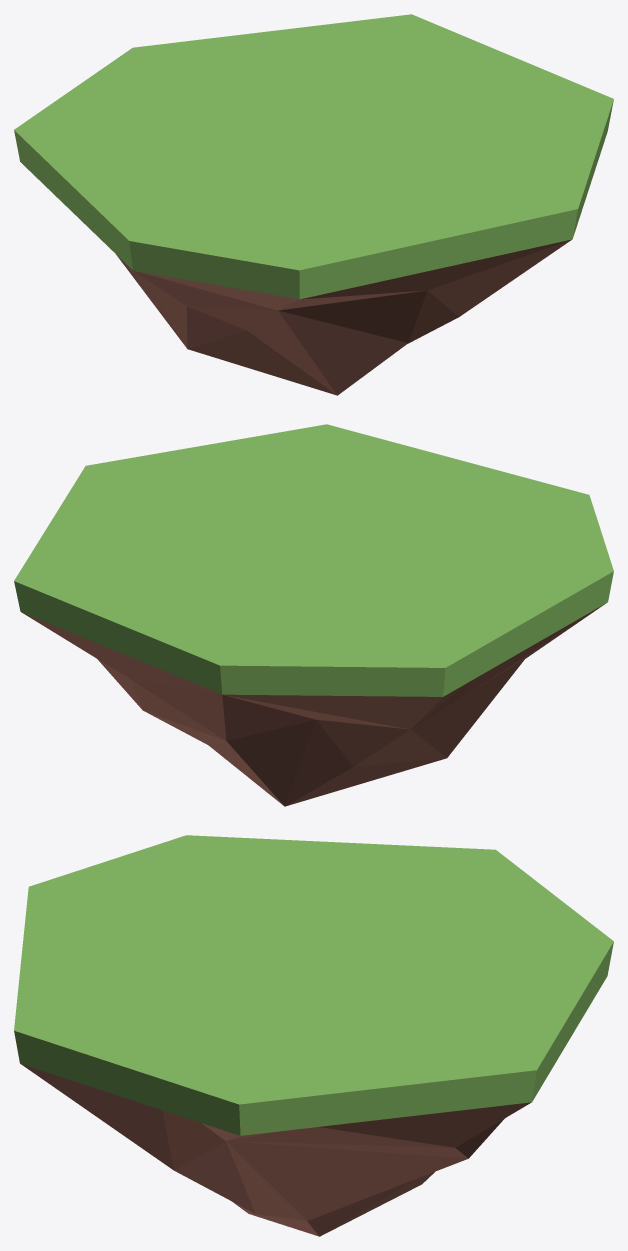
The model's file is Island9.fbx.
The picture shows the model from 3 angles, top to bottom: view 1: azimuth 30°, elevation 25°; view 2: azimuth 150°, elevation 25°; view 3: azimuth 270°, elevation 25°; orthographic projection. The views are drawn at different scales.
Visible parts, largest first — view 1: Island9; view 2: Island9; view 3: Island9.
Part boxes in pixels (<box>): Island9: <box>14,14,613,395</box>; Island9: <box>14,424,613,806</box>; Island9: <box>14,835,613,1236</box>.
Bounding box in the file's own units: 2.58 × 1.13 × 2.43.
